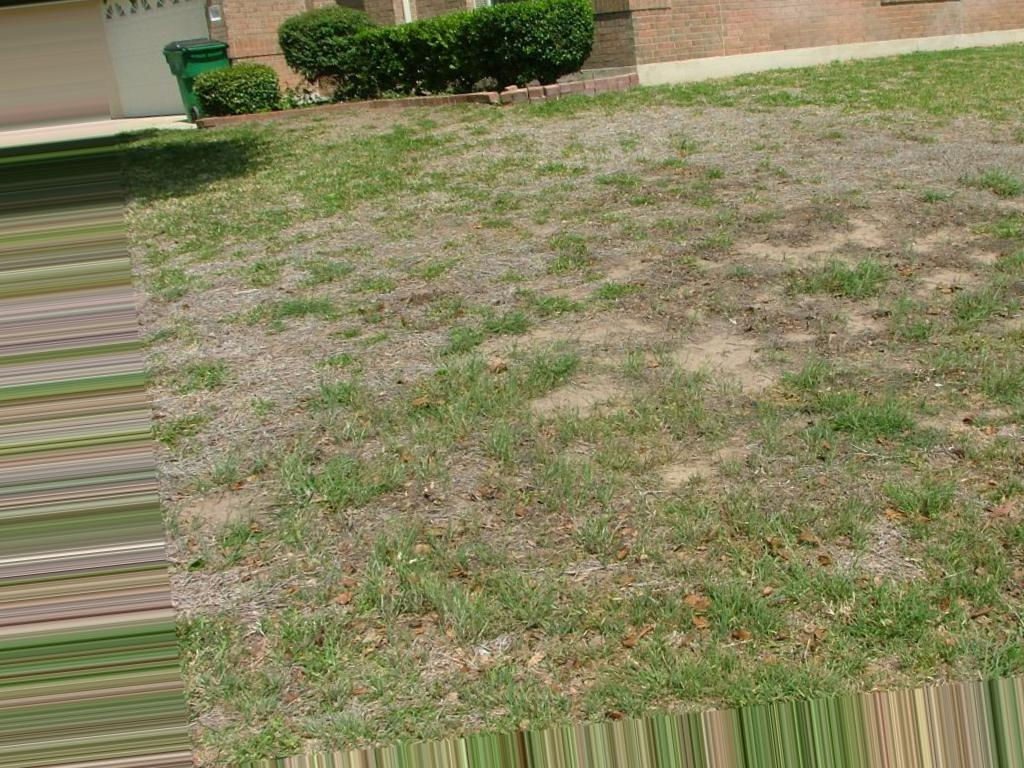patch: (395, 173, 675, 376), (375, 427, 671, 591), (717, 130, 889, 403), (698, 437, 909, 568), (164, 478, 342, 624), (224, 268, 382, 407)
